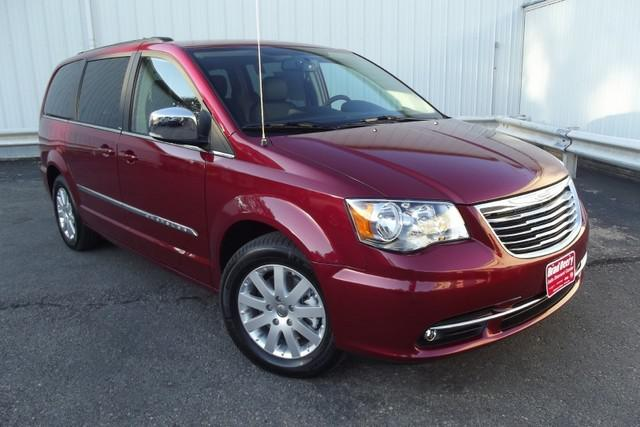Car: (32, 32, 617, 384)
